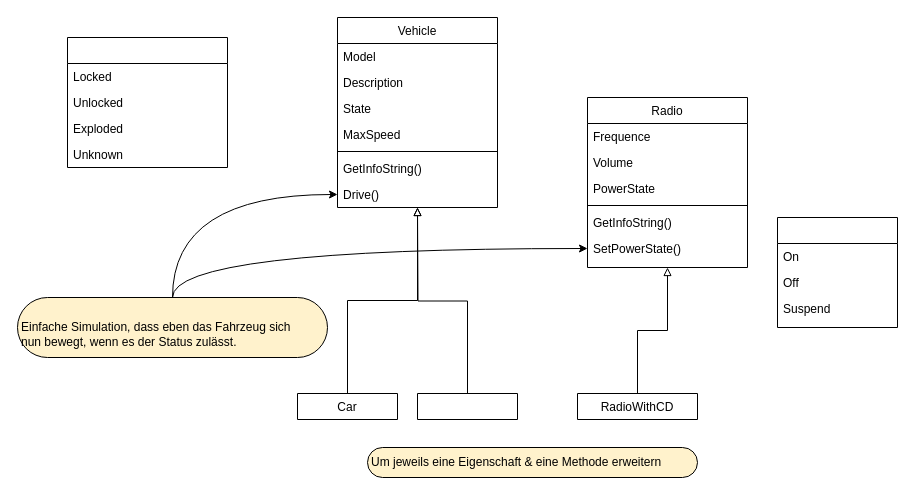
This 915x495 diagram has some shape labels left out. The shapes that lost their labels are listed below. From the top down, each one's box as (x1, y1, x2, y2) in pixels, then its label:
(66, 36, 228, 168): VehicleState : enum
(776, 216, 898, 328): Power : enum
(416, 392, 518, 420): Plane
